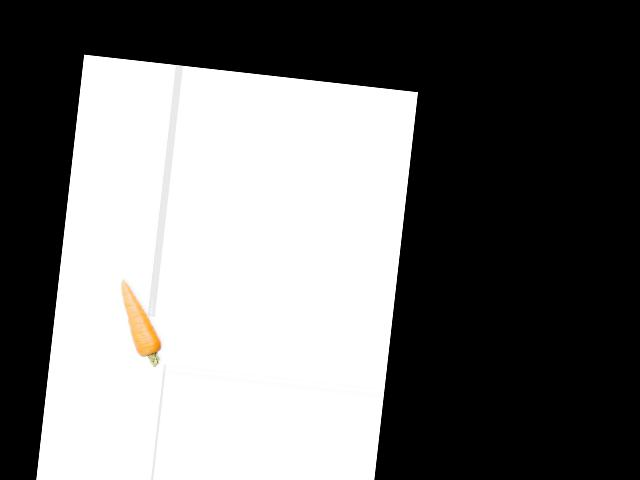carrot: (110, 278, 170, 367)
